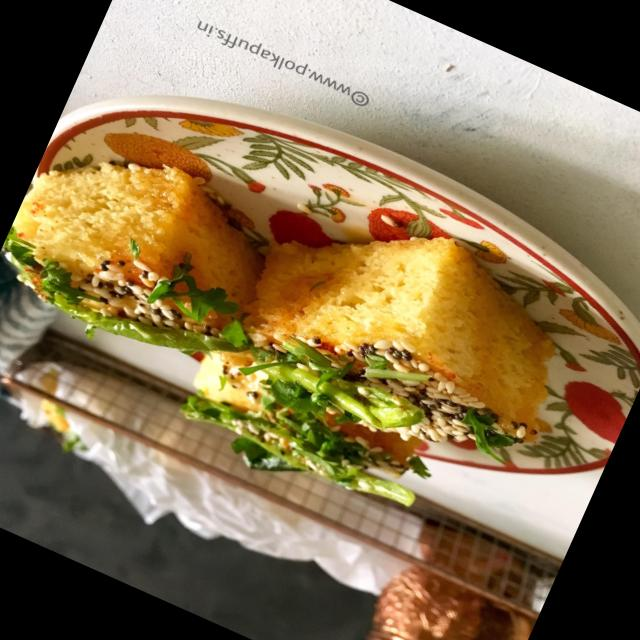dhokla: (0, 87, 635, 555)
